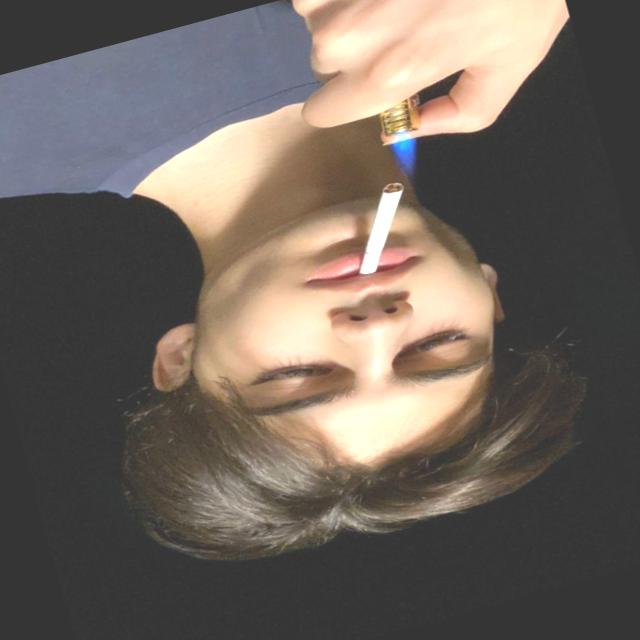cigarette: (316, 166, 444, 290)
